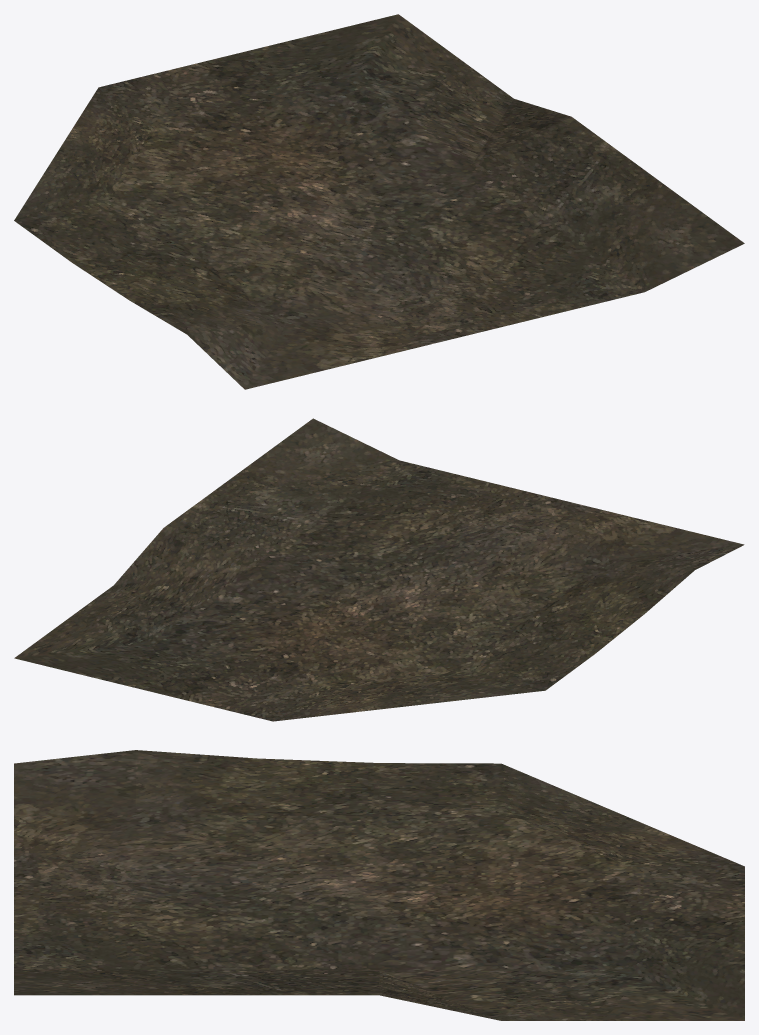
File: blend_weeds02.fbx
3 views of the same model, one above another, from view 1: azimuth 30°, elevation 25°; view 2: azimuth 150°, elevation 25°; view 3: azimuth 270°, elevation 25° (orthographic). The views are drawn at different scales.
Parts seen in each view (by area): view 1: obj0.023; view 2: obj0.023; view 3: obj0.023.
Part boxes in pixels (x1,y1,x2,y2): obj0.023: (14,14,744,389); obj0.023: (14,418,744,721); obj0.023: (14,750,744,1020).
Size of the model in its own units: 12.5 by 0.5787 by 15.
